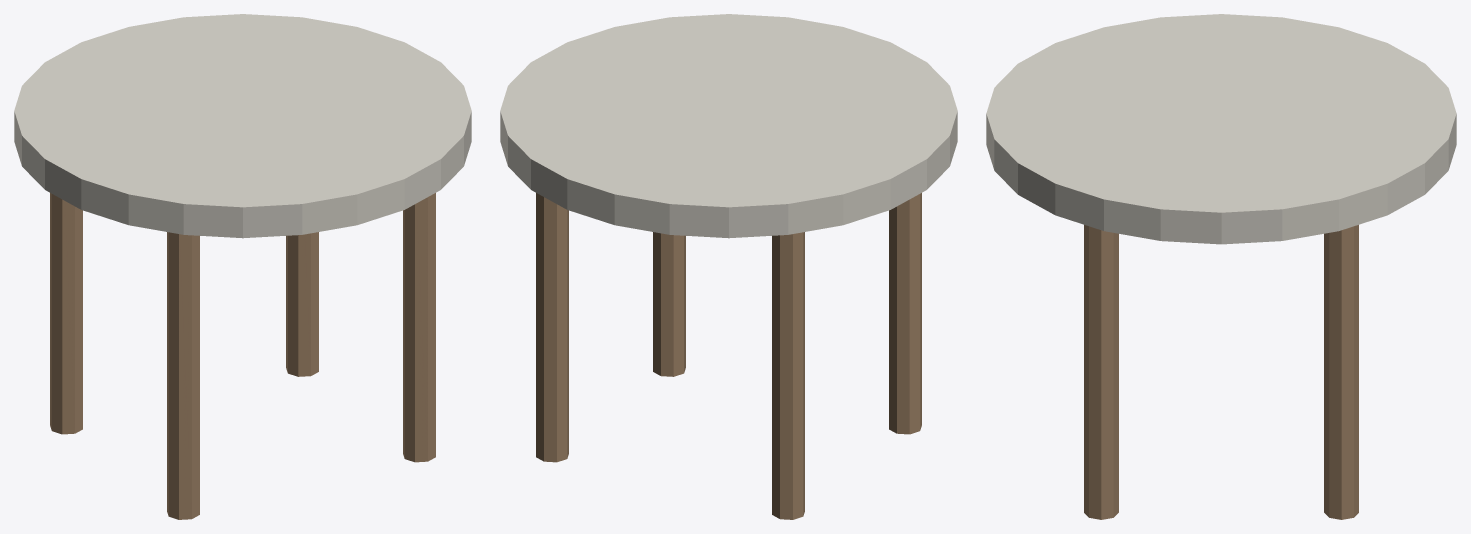
File: villa-single-table.glb
3 renders of one model, left to right at view 1: azimuth 30°, elevation 25°; view 2: azimuth 150°, elevation 25°; view 3: azimuth 270°, elevation 25°, orthographic. The views are drawn at different scales.
Visible parts, largest first — view 1: round top; view 2: round top; view 3: round top.
Boxes of the visible parts, x1,y1,x2,y2 form: round top: (14, 14, 471, 519); round top: (500, 14, 957, 519); round top: (986, 14, 1456, 519).
Size of the model in its own units: 0.94 by 0.75 by 0.94.
